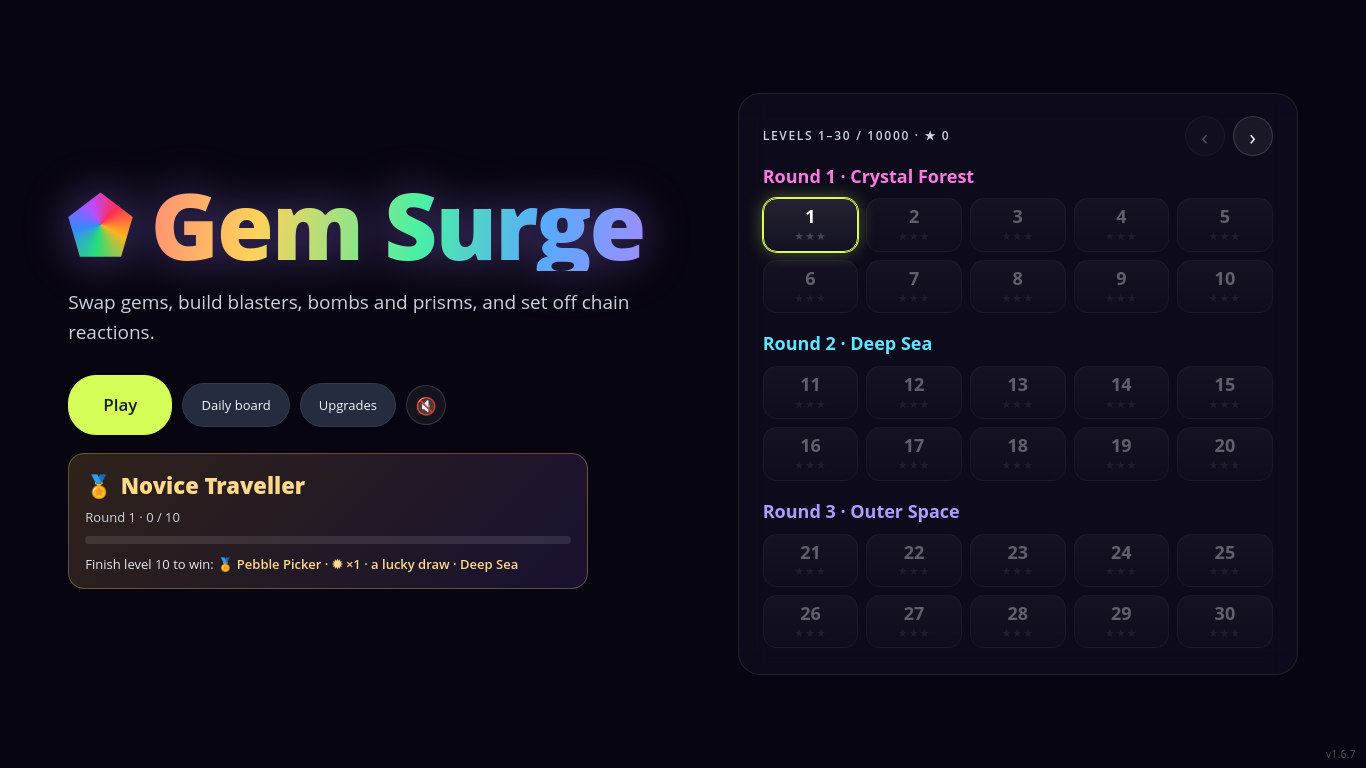
Test case: a signed-in player's result asks for no sign-in box
Click the button "Play" at point(120, 405), box [68,375,172,435]
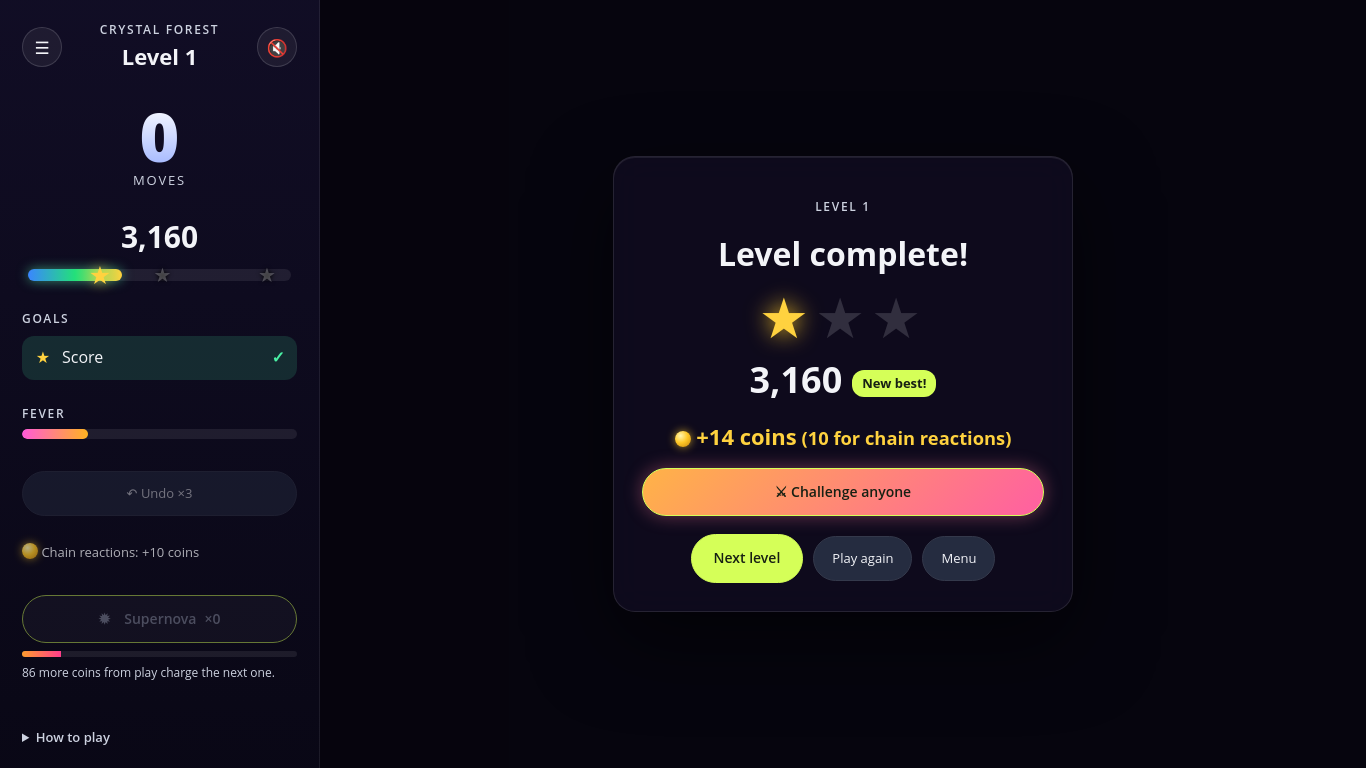
Expected: the button "Play again" is shown, [813,536,912,581]
